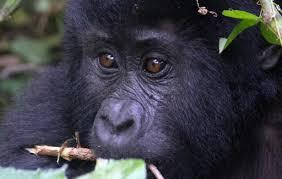goriile_montagne: (15, 1, 269, 179)
